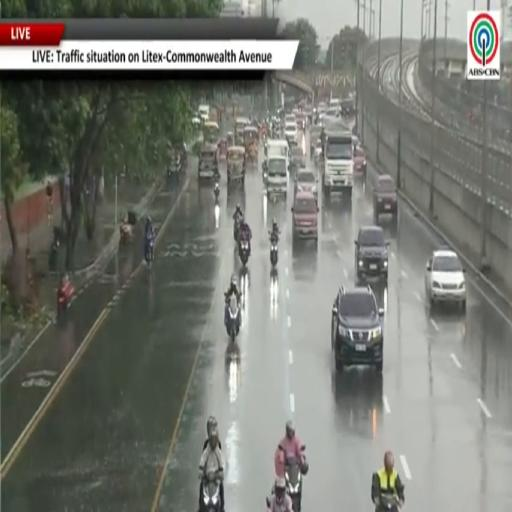car: (331, 285, 384, 372), (425, 249, 466, 311), (355, 226, 389, 281), (292, 192, 318, 243), (373, 175, 398, 221), (294, 169, 317, 201), (352, 135, 366, 178), (290, 146, 305, 170), (285, 121, 297, 139), (285, 114, 296, 124)
jeepney: (198, 143, 218, 180), (227, 147, 245, 186), (244, 126, 258, 164), (235, 118, 250, 146), (203, 121, 219, 143)
motorcycle: (285, 458, 302, 511), (201, 474, 221, 511), (57, 279, 74, 316), (227, 295, 240, 343), (379, 494, 401, 511), (239, 238, 250, 266), (120, 222, 133, 244), (270, 233, 278, 268), (145, 236, 154, 264), (234, 216, 240, 243), (214, 181, 220, 201)
truck: (322, 131, 353, 197)
